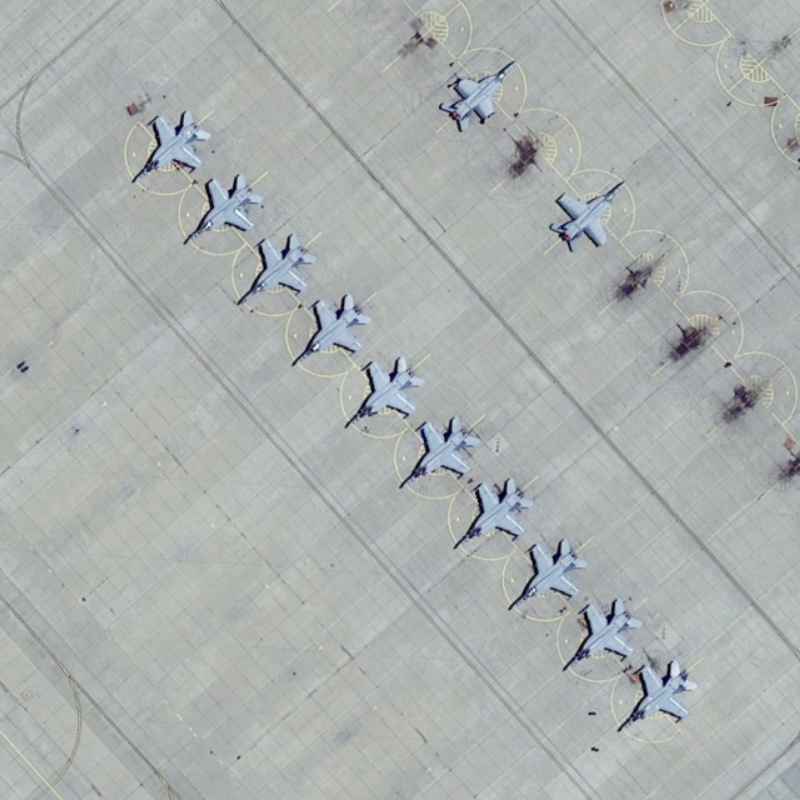A16: (287, 285, 378, 375), (609, 655, 703, 738), (222, 232, 321, 310), (556, 593, 645, 679), (337, 350, 431, 431), (437, 54, 526, 139), (173, 169, 269, 247), (126, 106, 215, 188), (503, 534, 593, 615), (394, 414, 482, 494), (448, 474, 535, 553), (543, 177, 631, 254)
